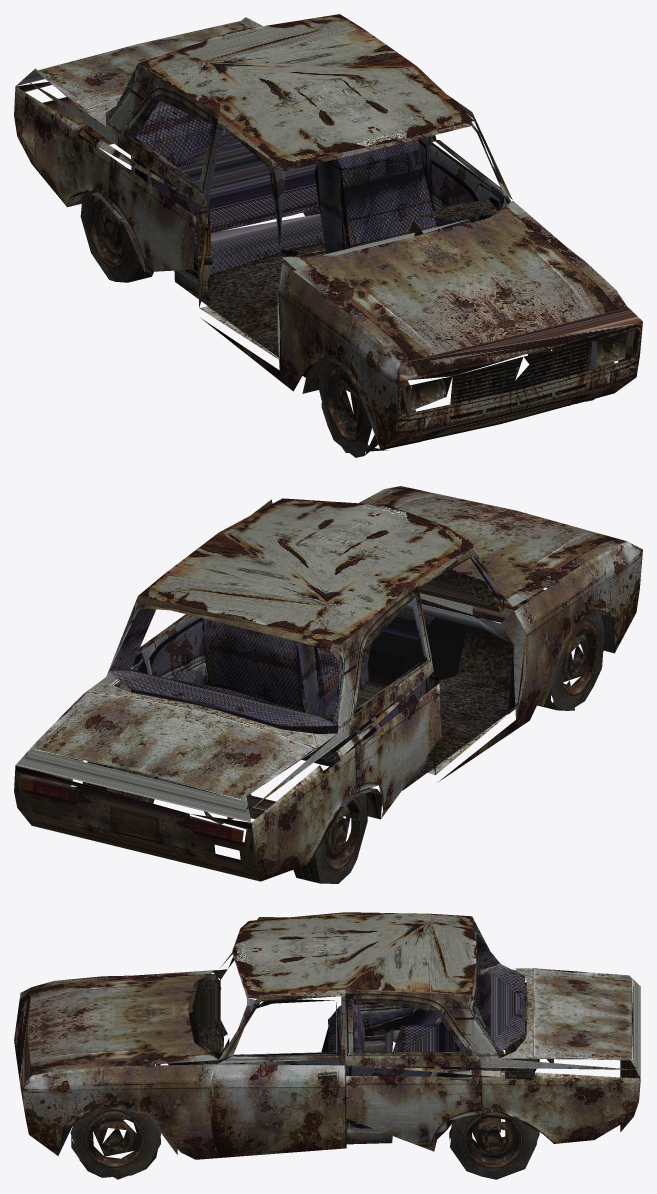
The model's file is car1_LOD2.FBX.
The picture shows the model from 3 angles, top to bottom: view 1: azimuth 30°, elevation 25°; view 2: azimuth 150°, elevation 25°; view 3: azimuth 270°, elevation 25°; orthographic projection. The views are drawn at different scales.
Visible parts, largest first — view 1: car003; view 2: car003; view 3: car003.
Boxes of the visible parts, bbox=[...] form: car003: bbox=[14, 14, 642, 457]; car003: bbox=[14, 486, 642, 883]; car003: bbox=[14, 912, 640, 1179].
Bounding box in the file's own units: 17.69 × 15.96 × 47.53.
1 material, 1 textured.
